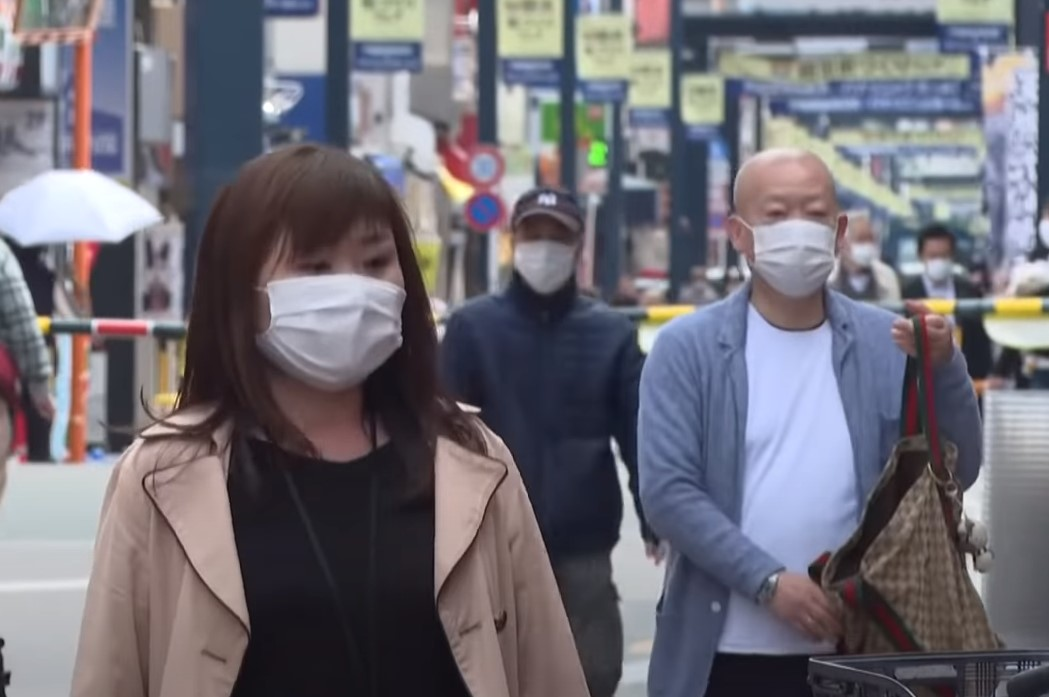face_with_mask: (227, 152, 405, 391), (729, 151, 844, 297), (510, 194, 583, 299), (915, 225, 957, 278), (838, 213, 876, 264)
